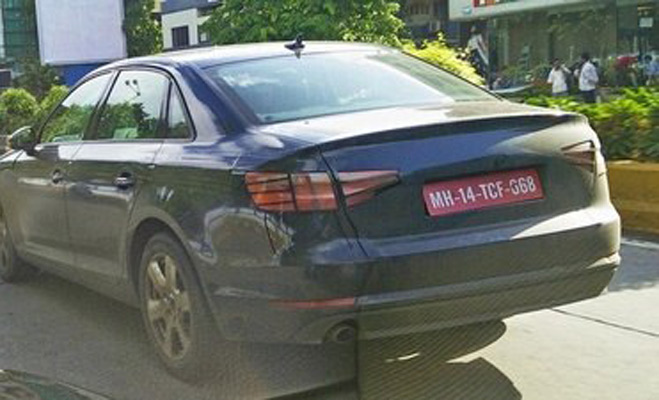number_plate: (412, 164, 557, 220)
